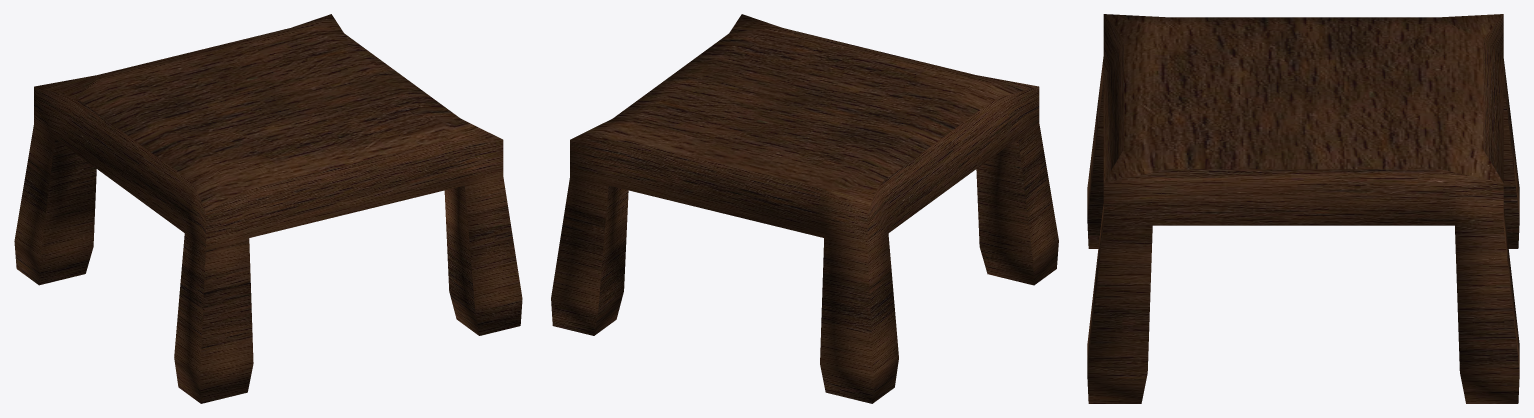
The model's file is pira.glb.
3 views of the same model, side by side, from view 1: azimuth 30°, elevation 25°; view 2: azimuth 150°, elevation 25°; view 3: azimuth 270°, elevation 25° (orthographic). The views are drawn at different scales.
Parts seen in each view (by area): view 1: Cube; view 2: Cube; view 3: Cube.
Boxes of the visible parts, x1=… form: Cube: x1=14, y1=14, x2=522, y2=403; Cube: x1=551, y1=14, x2=1058, y2=403; Cube: x1=1087, y1=14, x2=1519, y2=403.
Bounding box in the file's own units: 2.32 × 1.33 × 2.31.
Materials: 1 (1 with a texture image).
